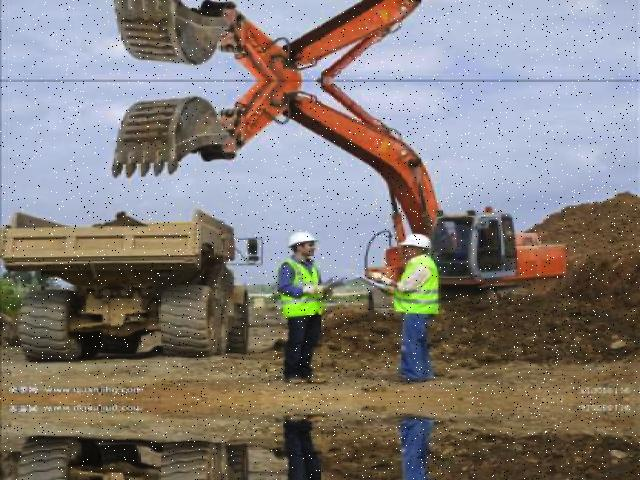Helmet: (394, 229, 432, 254), (281, 228, 318, 250)
